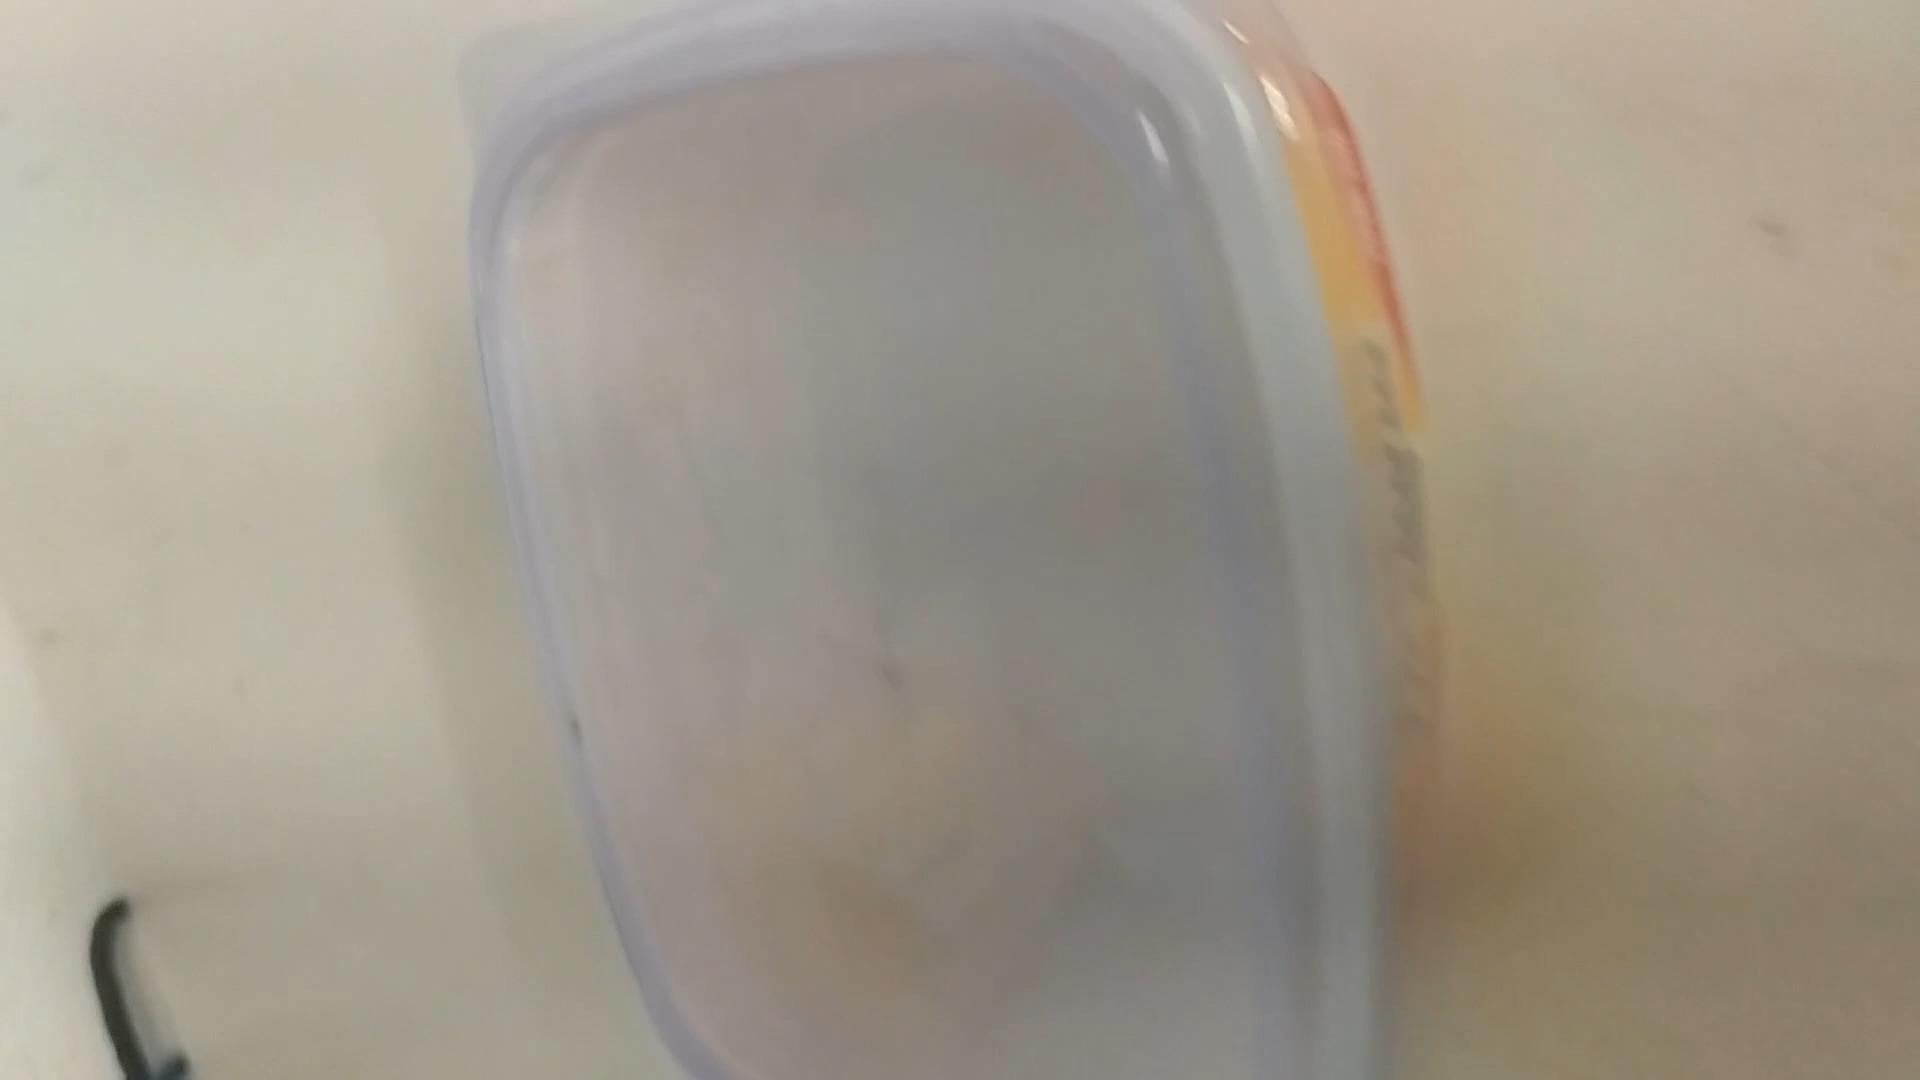butter: (463, 0, 1412, 1080)
